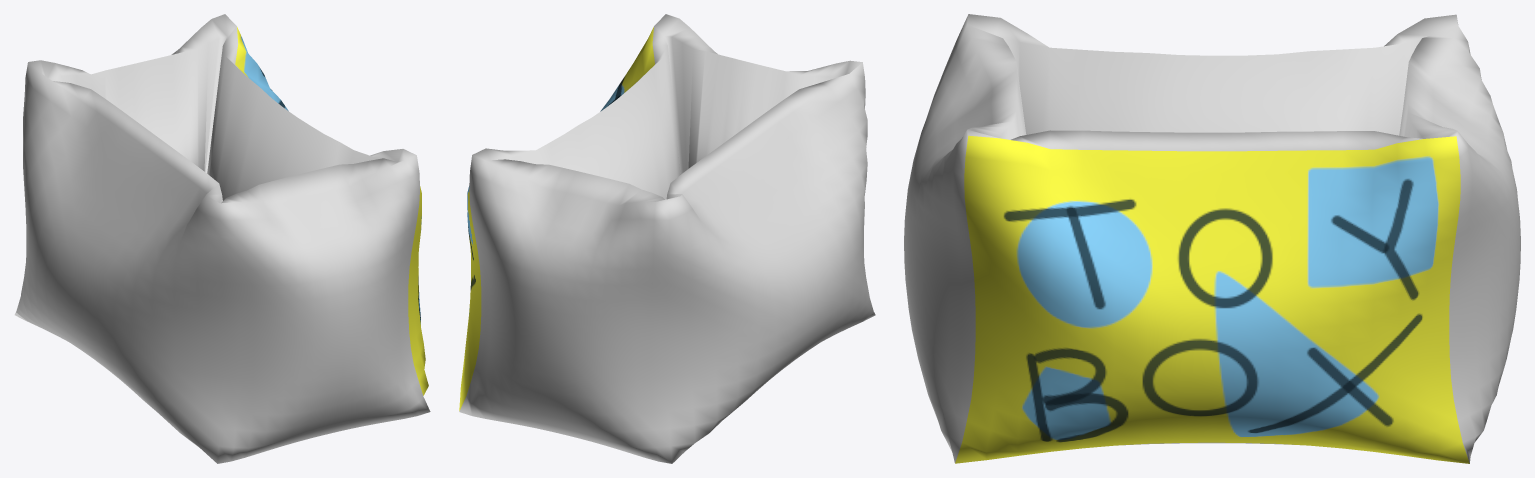
Rendered from ToyBox.fbx.
3 views of the same model, side by side, from view 1: azimuth 30°, elevation 25°; view 2: azimuth 150°, elevation 25°; view 3: azimuth 270°, elevation 25° (orthographic). The views are drawn at different scales.
Parts seen in each view (by area): view 1: 立方体; view 2: 立方体; view 3: 立方体.
Boxes of the visible parts, box(x1,y1,x2,y2) form: 立方体: box(14, 14, 430, 463); 立方体: box(459, 14, 875, 463); 立方体: box(904, 14, 1520, 463).
Bounding box in the file's own units: 172 × 138 × 237.
